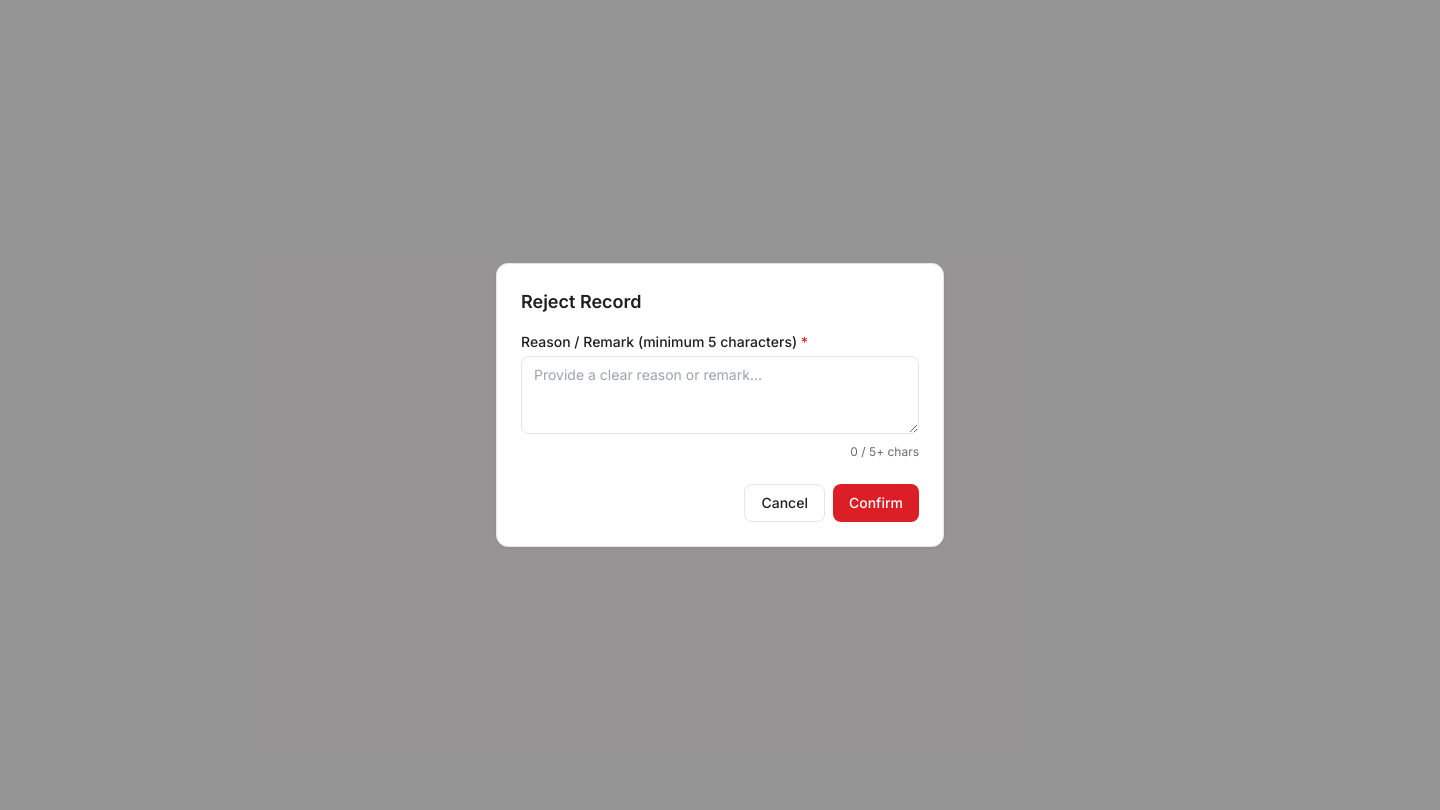
Shared design system components (frontend.md §2.2, §2.3) › ConfirmDialog enforces minimum 5 character reason when requireReason=true
Later steps or results of the test are not shown.
Click the button "Confirm" at point(876, 503), box x1=833 y1=484 x2=919 y2=522
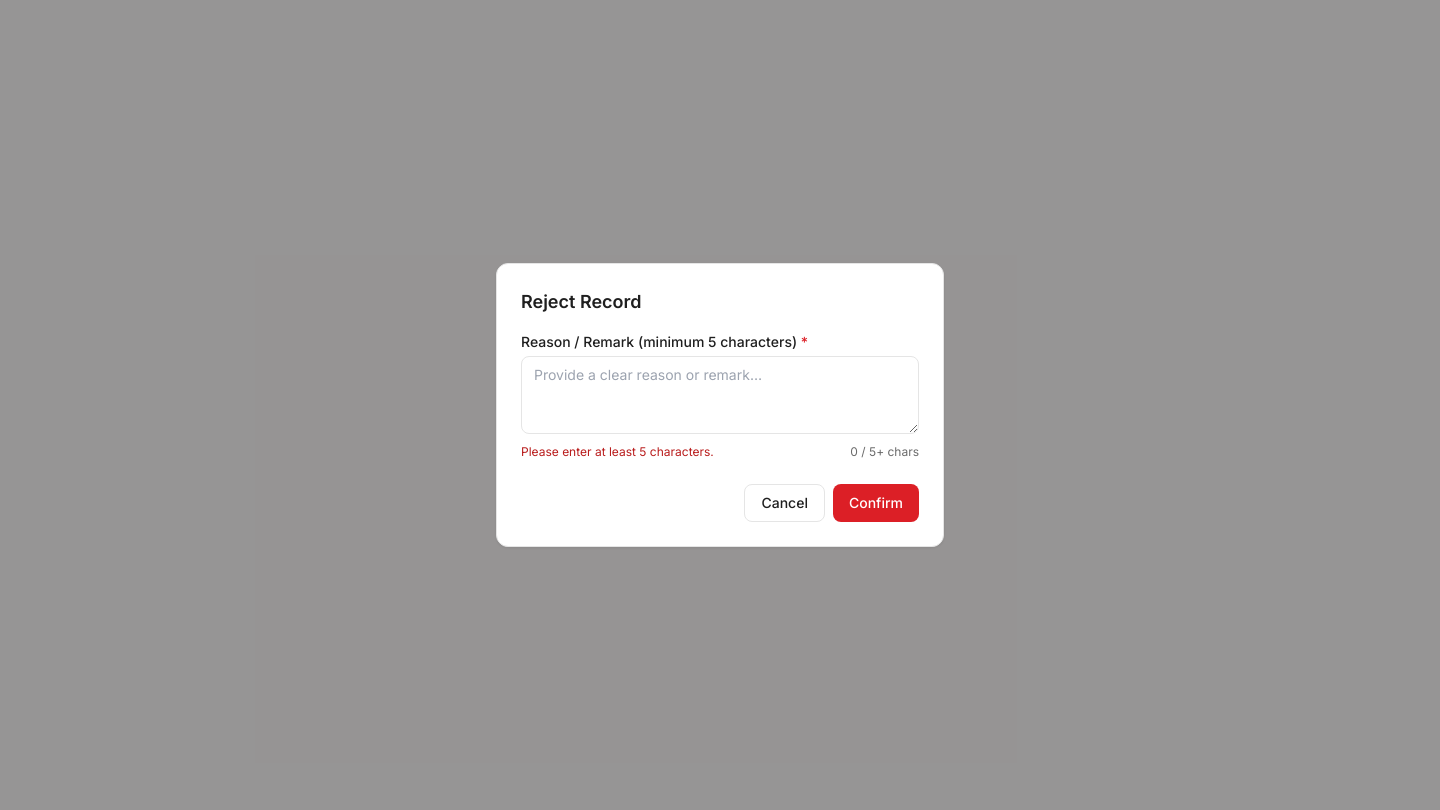
Expected: the message shows "at least 5 characters", x1=521 y1=444 x2=714 y2=459
